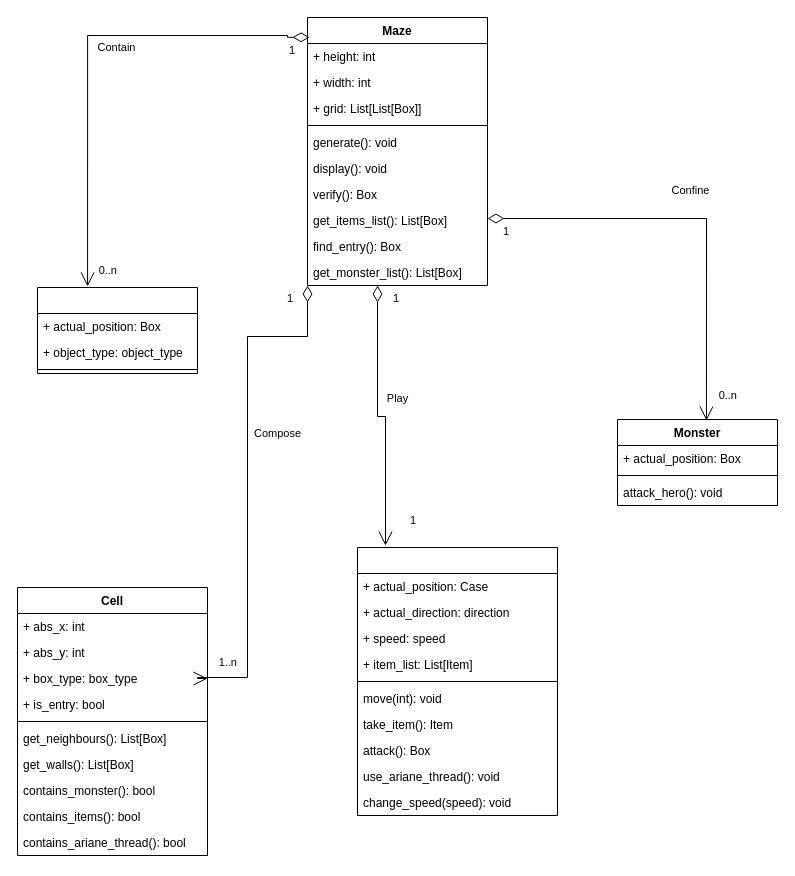
Some shapes in this 795 by 876 pixel diagram are drawn without their labels. Each missing label, with the box of its shape:
Hero: (356, 546, 558, 816)
Item: (36, 286, 198, 374)
